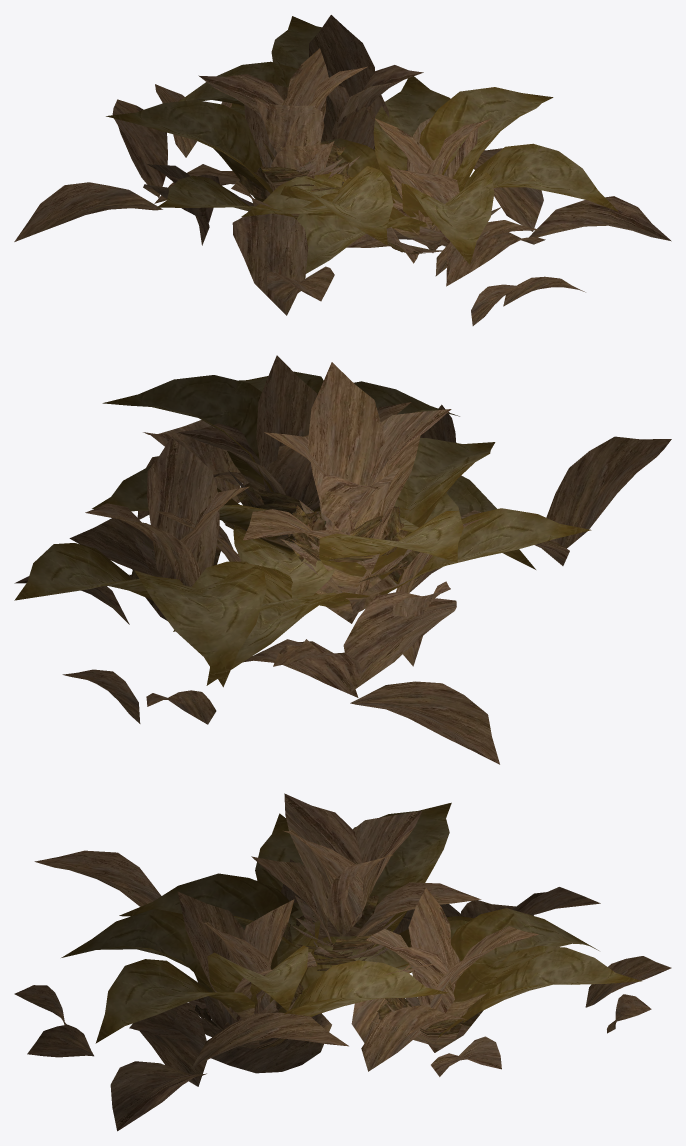
3 renders of one model, top to bottom at view 1: azimuth 30°, elevation 25°; view 2: azimuth 150°, elevation 25°; view 3: azimuth 270°, elevation 25°, orthographic. The views are drawn at different scales.
Visible parts, largest first — view 1: SM_GF_Fallen_Log_01_LOD0; view 2: SM_GF_Fallen_Log_01_LOD0; view 3: SM_GF_Fallen_Log_01_LOD0.
Boxes of the visible parts, x1,y1,x2,y2 form: SM_GF_Fallen_Log_01_LOD0: [14, 15, 671, 325]; SM_GF_Fallen_Log_01_LOD0: [14, 355, 671, 764]; SM_GF_Fallen_Log_01_LOD0: [14, 793, 671, 1131].
Bounding box in the file's own units: 1.03 × 0.4044 × 1.17.
